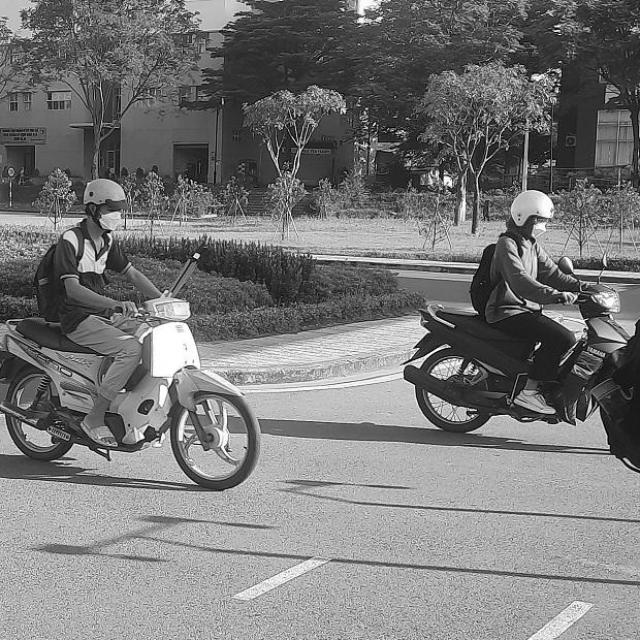Helmet: (79, 176, 132, 233), (504, 189, 552, 236)
